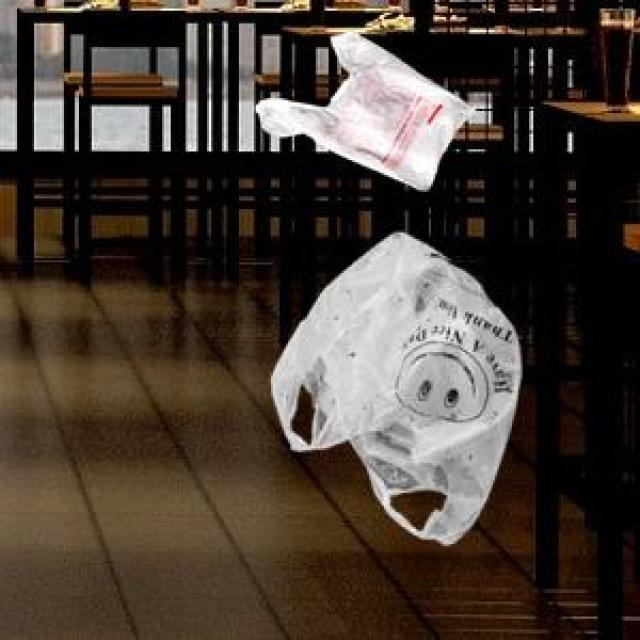waste: (272, 232, 520, 544), (256, 36, 471, 191)
